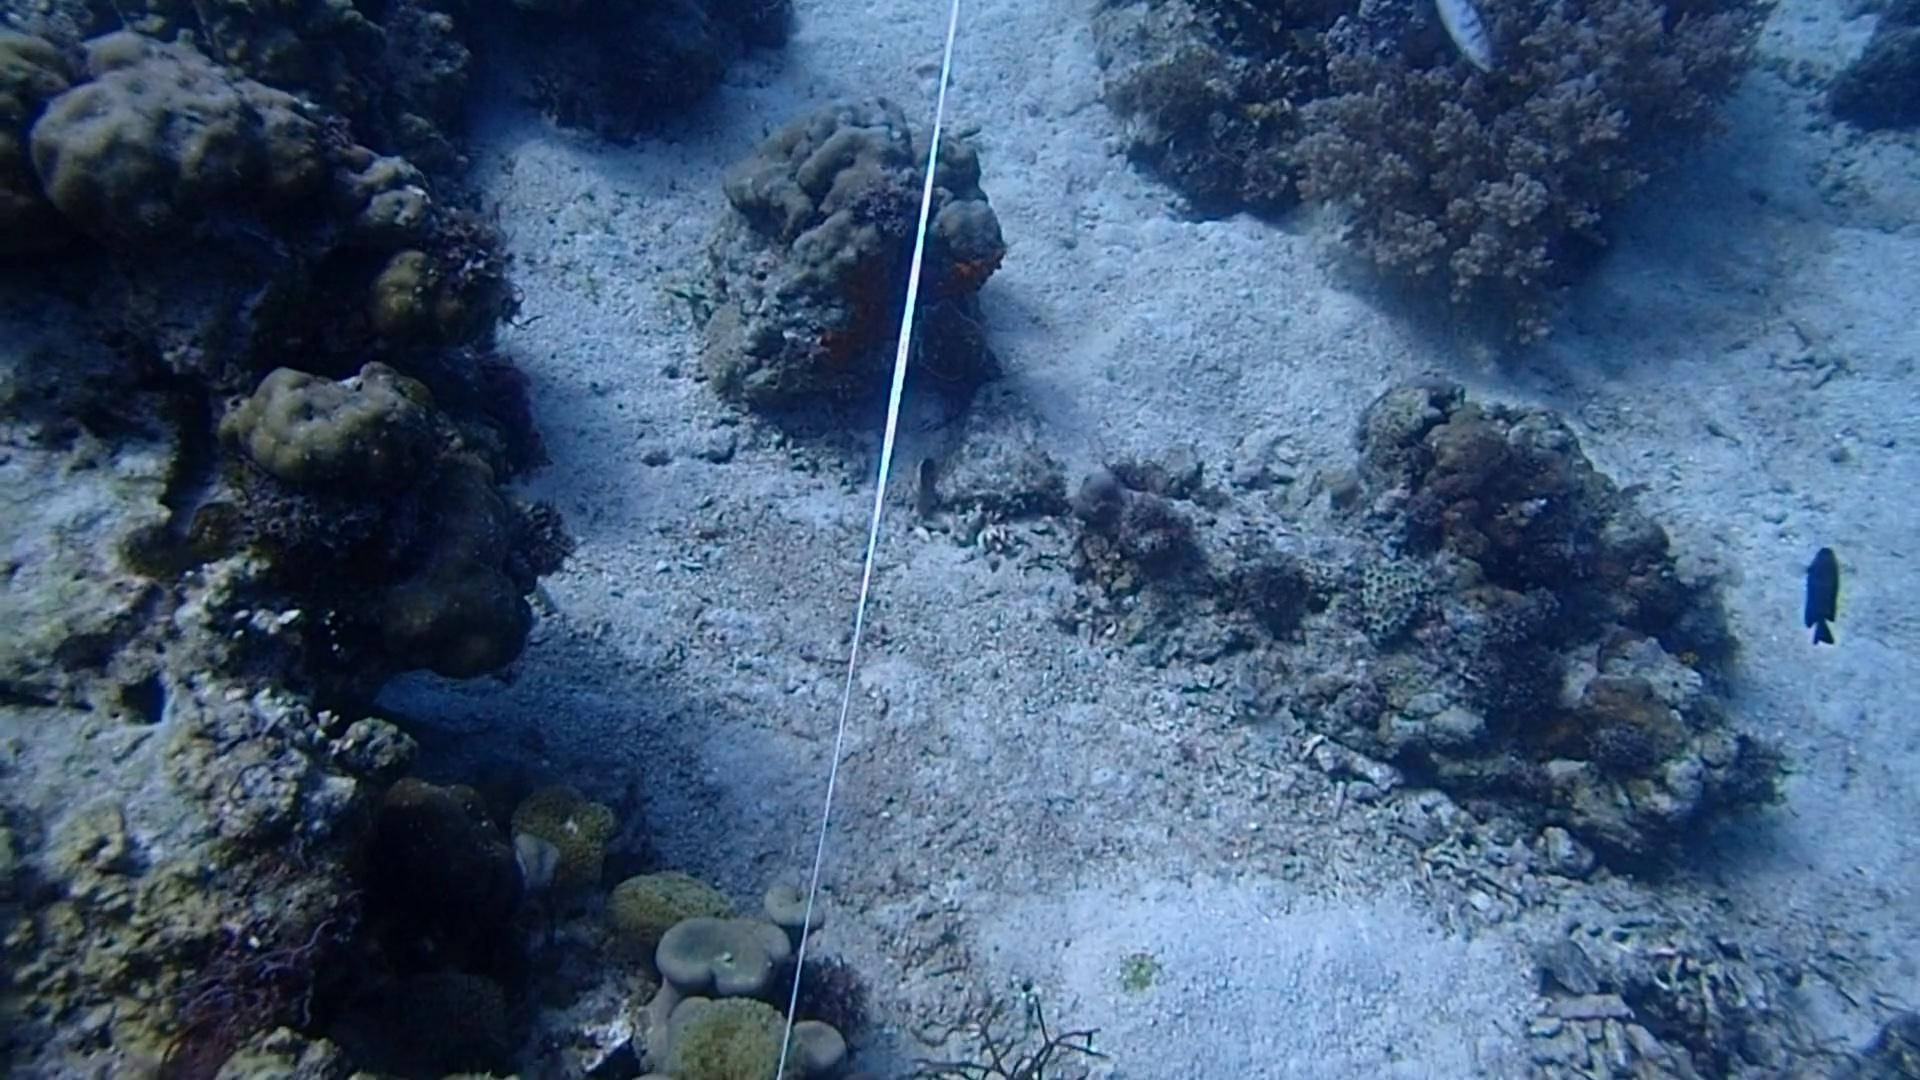Dark Fish: (1788, 545, 1853, 650)
